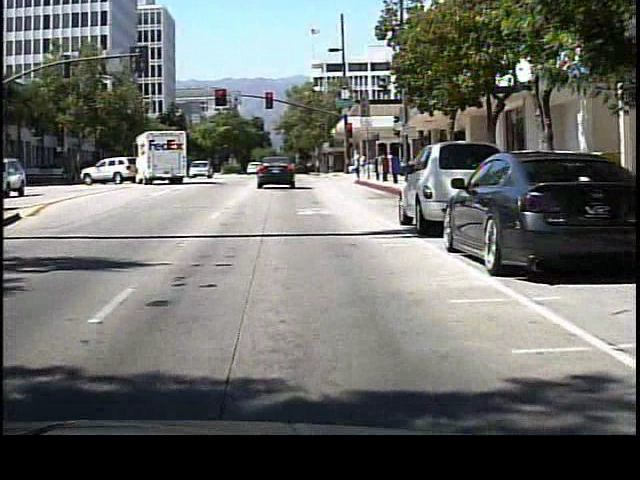person: (349, 147, 367, 184)
